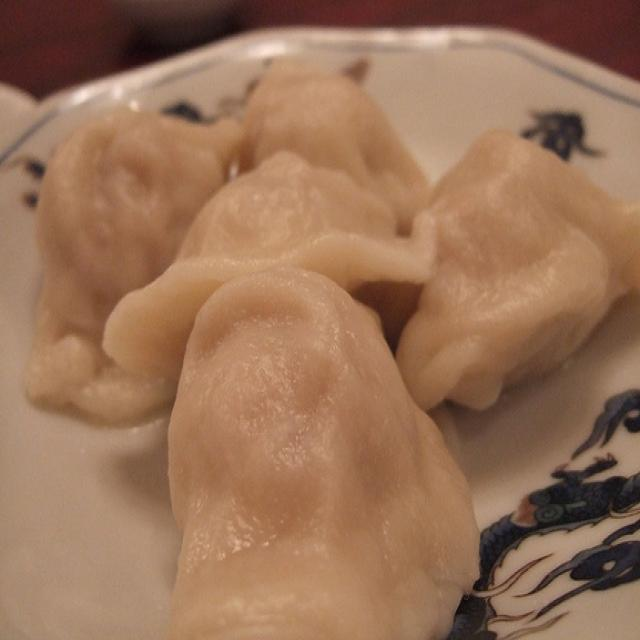带馅早点: (18, 66, 619, 615)
